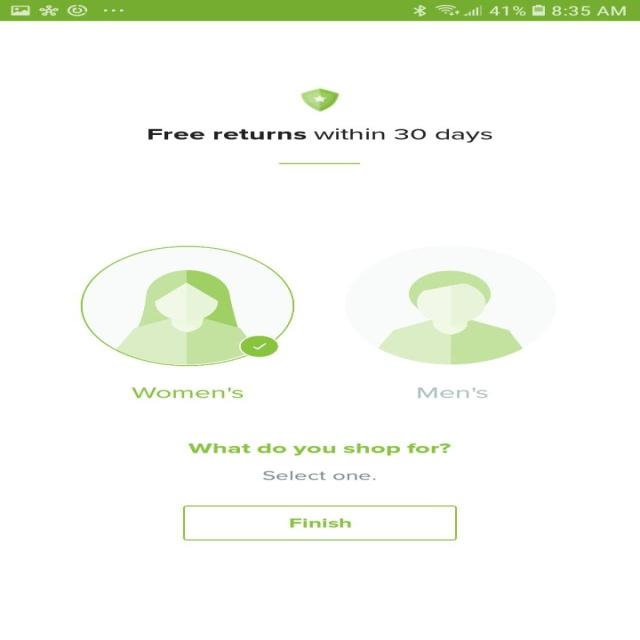Image: (80, 245, 295, 366), (344, 245, 556, 365), (300, 88, 340, 112)
Text: (148, 128, 492, 142), (188, 442, 450, 456), (130, 386, 244, 399), (262, 470, 376, 480), (417, 388, 488, 398)
TextButton: (182, 504, 457, 540)
